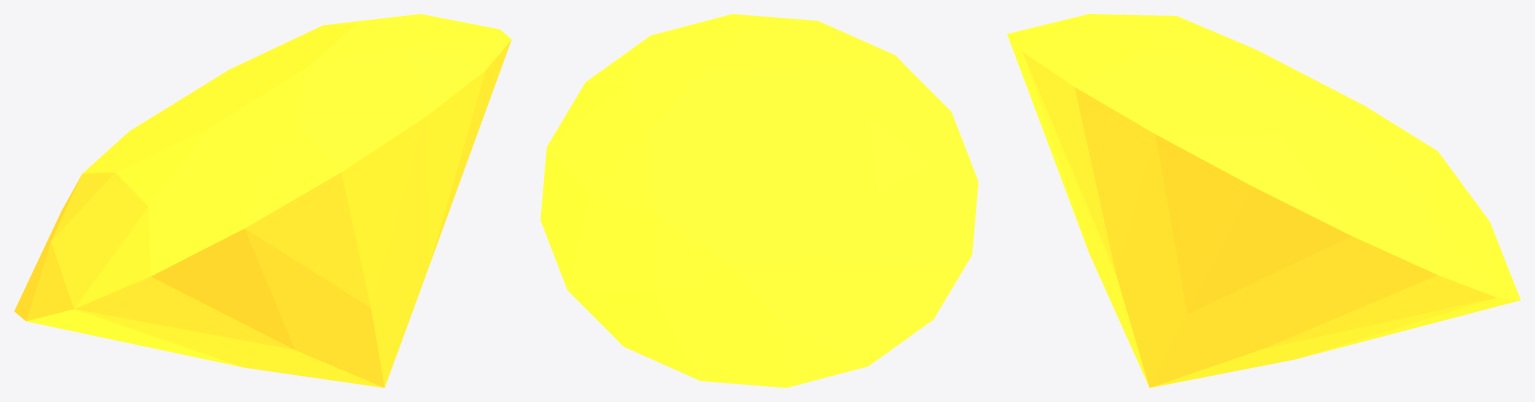
File: SM_Gem_Topaz.fbx
3 renders of one model, left to right at view 1: azimuth 30°, elevation 25°; view 2: azimuth 150°, elevation 25°; view 3: azimuth 270°, elevation 25°, orthographic. The views are drawn at different scales.
Visible parts, largest first — view 1: SM_Gem_Topaz; view 2: SM_Gem_Topaz; view 3: SM_Gem_Topaz.
Part boxes in pixels (x1=…): SM_Gem_Topaz: x1=14, y1=14, x2=511, y2=387; SM_Gem_Topaz: x1=540, y1=14, x2=978, y2=387; SM_Gem_Topaz: x1=1007, y1=14, x2=1520, y2=387.
Bounding box in the file's own units: 1.18 × 0.8244 × 1.12.
Materials: 1 (1 with a texture image).
